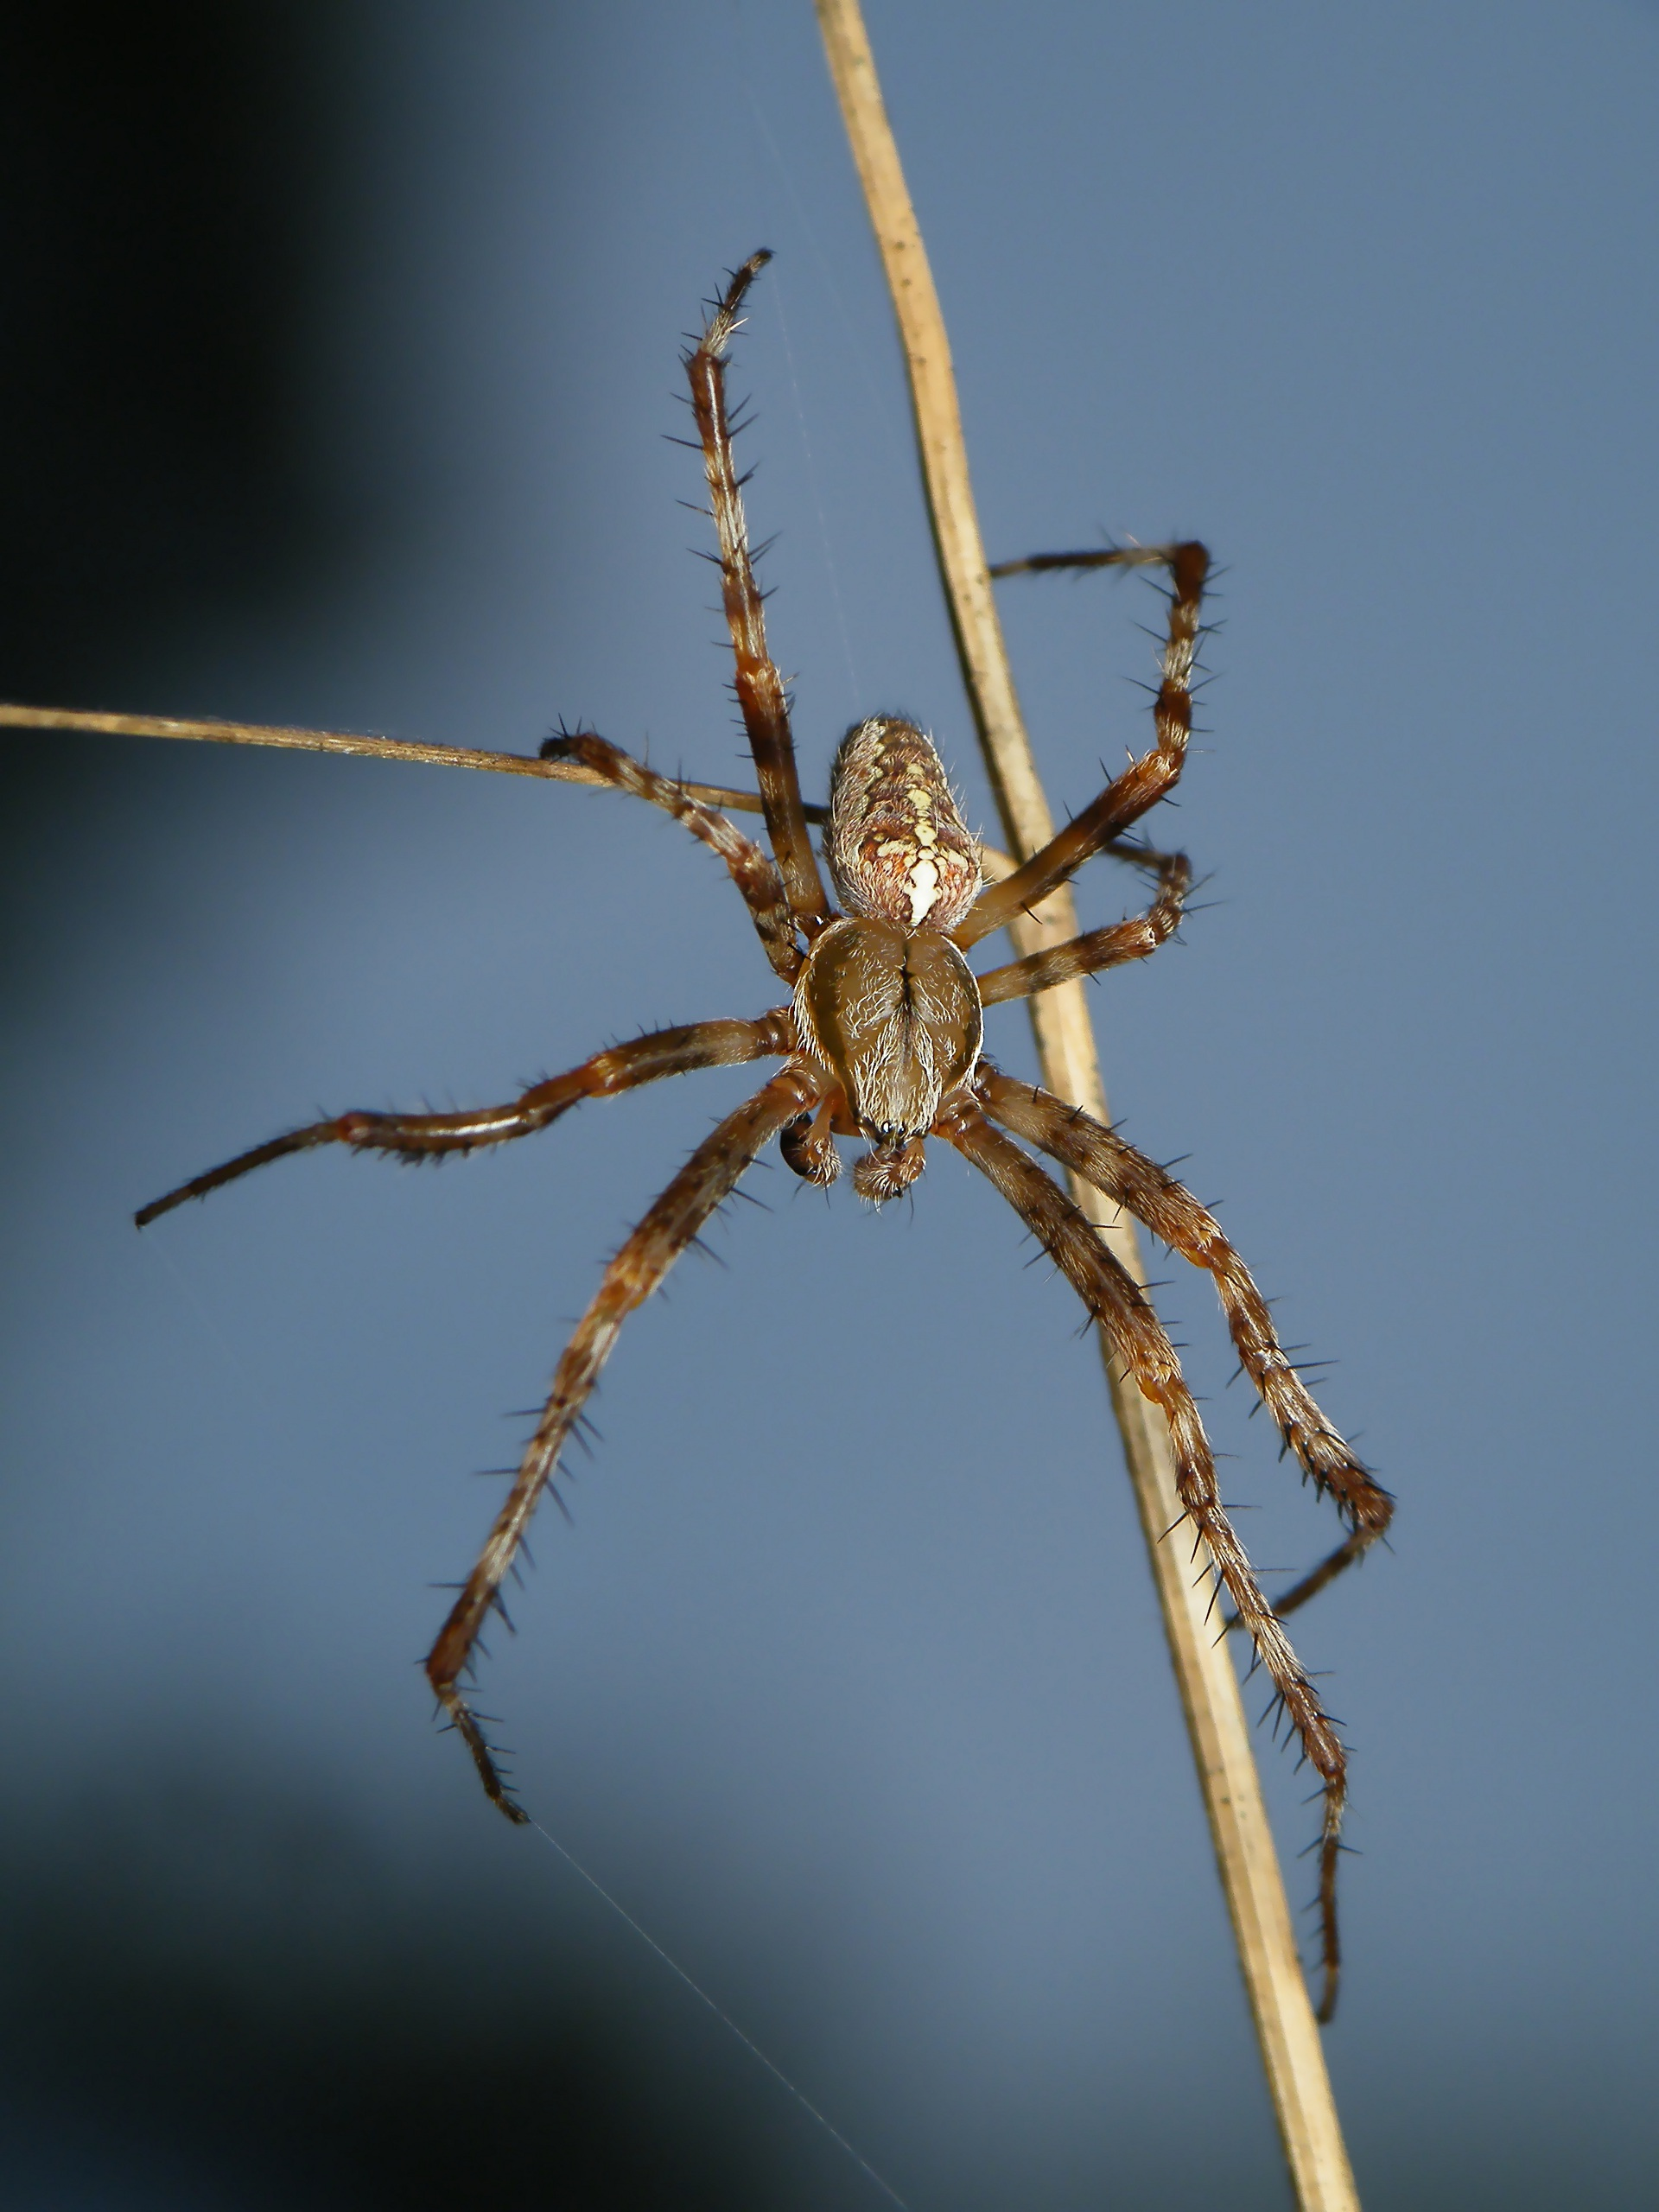spider: (112, 155, 1469, 2054)
